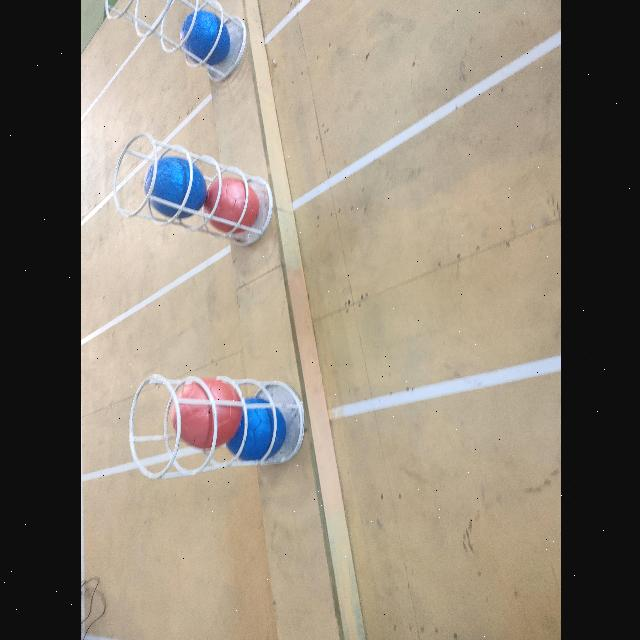B: (144, 156, 206, 220), (180, 9, 230, 67), (242, 398, 284, 464)
R: (170, 378, 238, 448), (206, 174, 260, 233)
